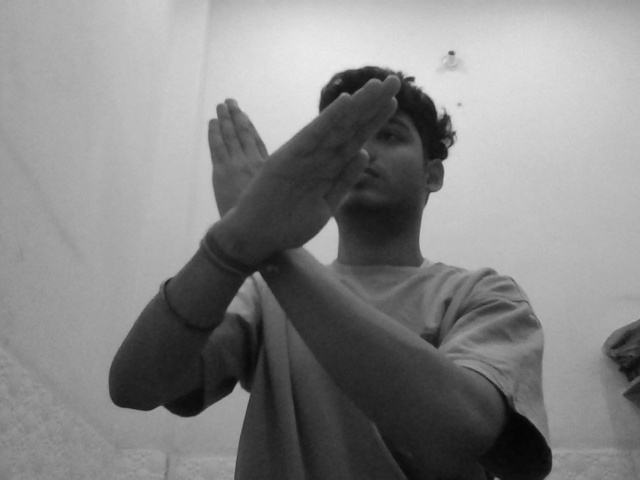No: (189, 70, 405, 302)
